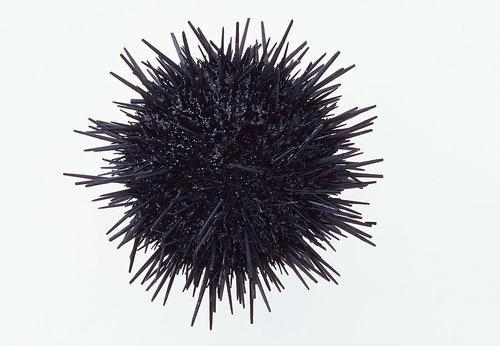urchin: (74, 19, 384, 333)
